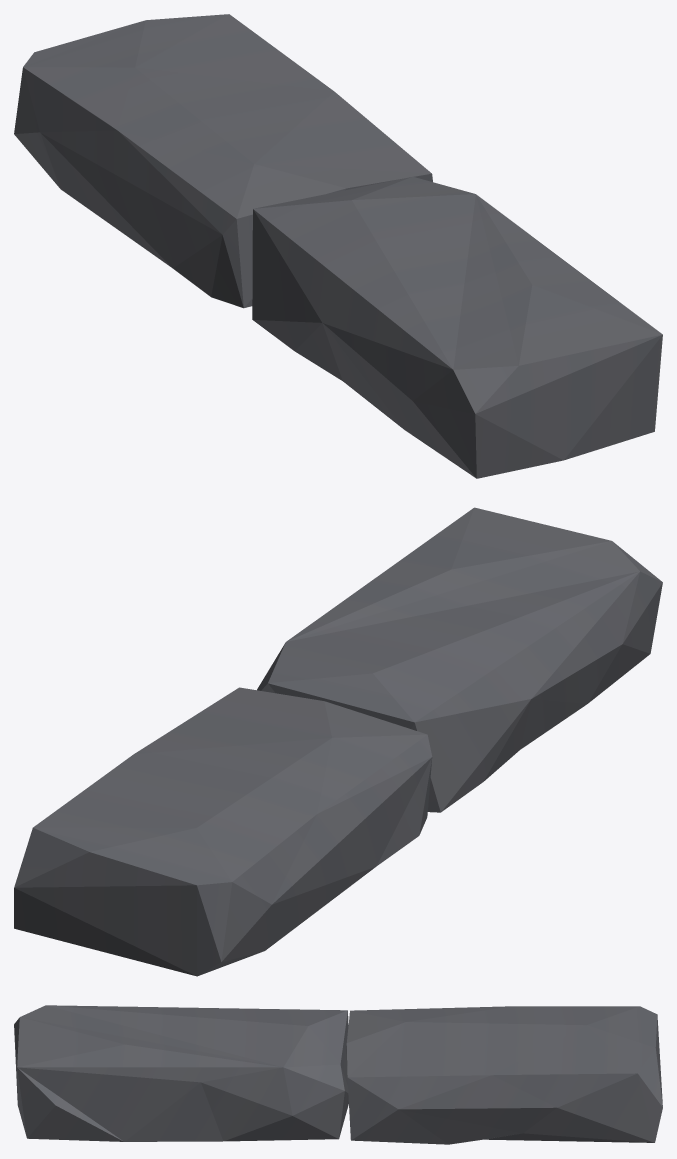
File: Road_1A.fbx
The picture shows the model from 3 angles, top to bottom: view 1: azimuth 30°, elevation 25°; view 2: azimuth 150°, elevation 25°; view 3: azimuth 270°, elevation 25°; orthographic projection. The views are drawn at different scales.
Visible parts, largest first — view 1: polySurface10303; view 2: polySurface10303; view 3: polySurface10303.
Boxes of the visible parts, box(x1,y1,x2,y2) form: polySurface10303: box(14, 14, 662, 478); polySurface10303: box(14, 507, 662, 976); polySurface10303: box(14, 1005, 662, 1144).
Size of the model in its own units: 59.95 by 28 by 206.
